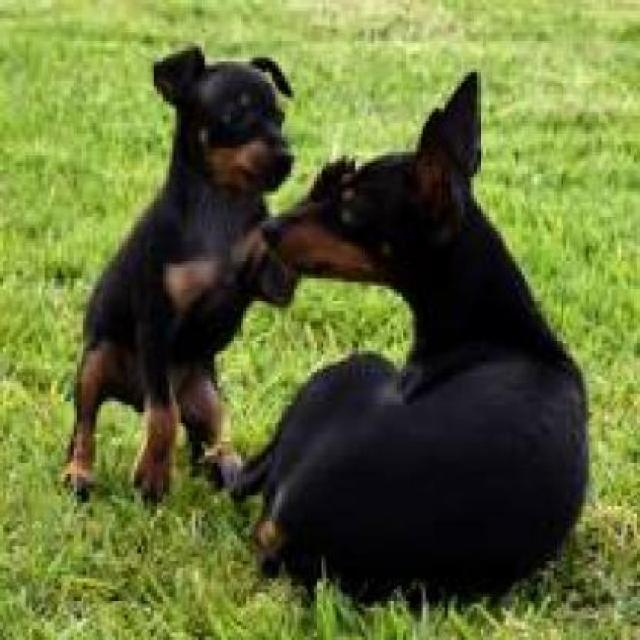animals: (280, 156, 598, 604), (71, 26, 283, 500)
